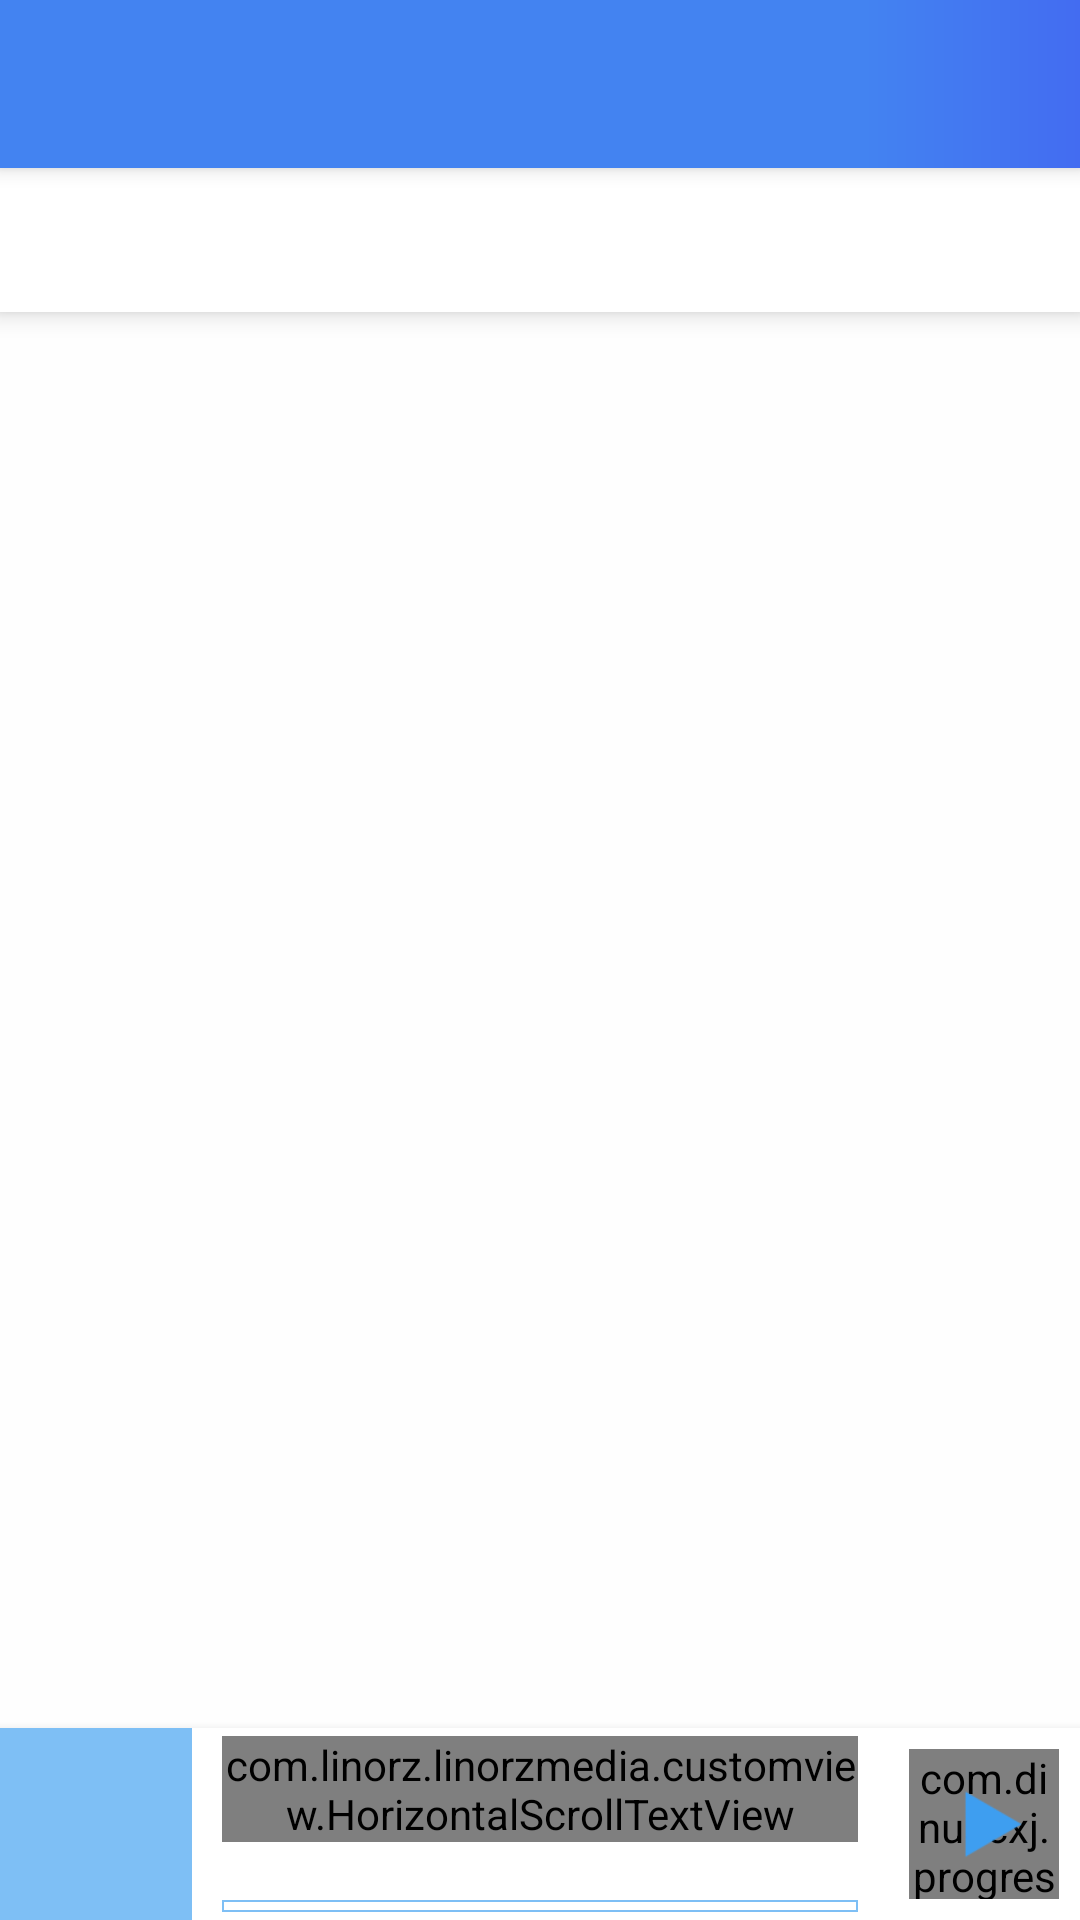

Screen size 1080w x 1920h. Icon name, then its box in pixels as (x1, y1, x2, y2):
start: (939, 1779, 1029, 1857)
